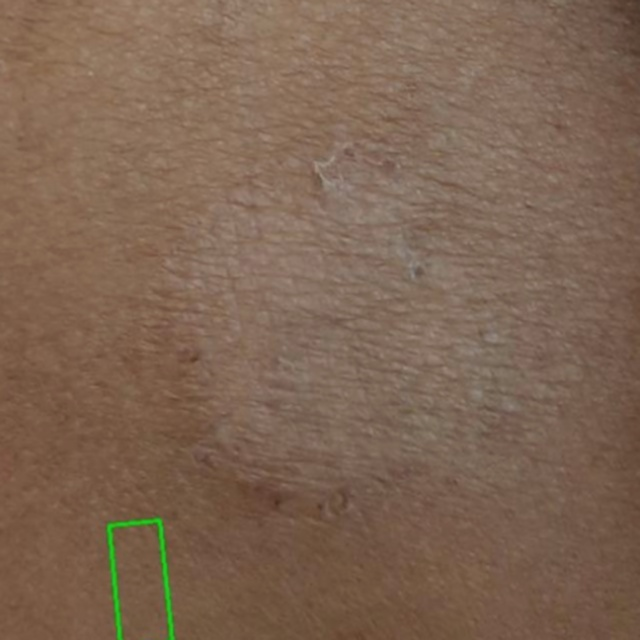Tinea Corporis: (108, 520, 171, 639)
